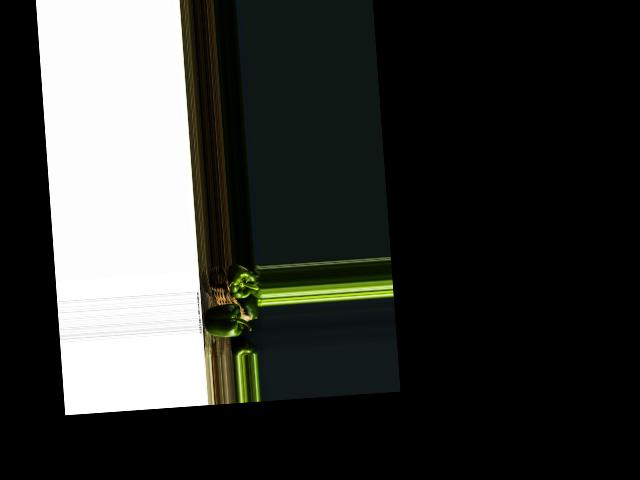bell_pepper: (235, 341, 257, 356)
